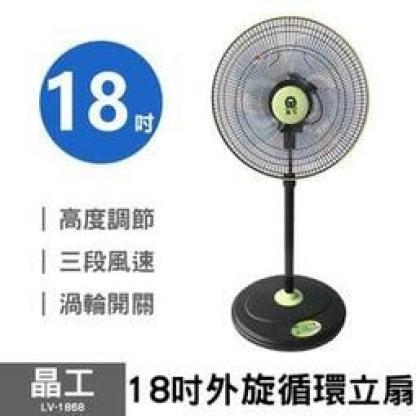fan: (204, 13, 374, 356)
